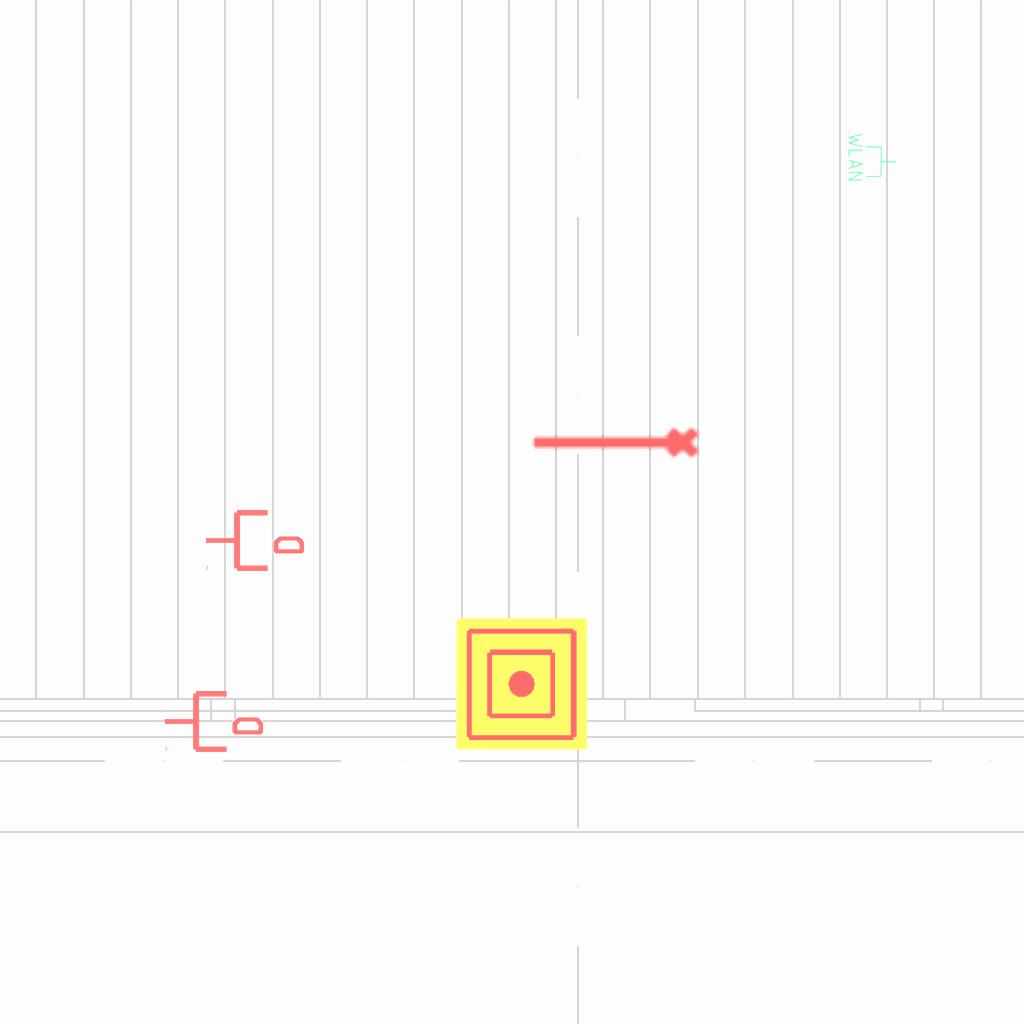ASR_Ansaugoeffnung: (527, 422, 703, 468)
Datenanschluss_einfach: (163, 687, 263, 756), (204, 506, 304, 575)
NAM-Nichtautomatischer_Melder: (456, 618, 588, 750)
WLAN: (846, 131, 898, 183)
